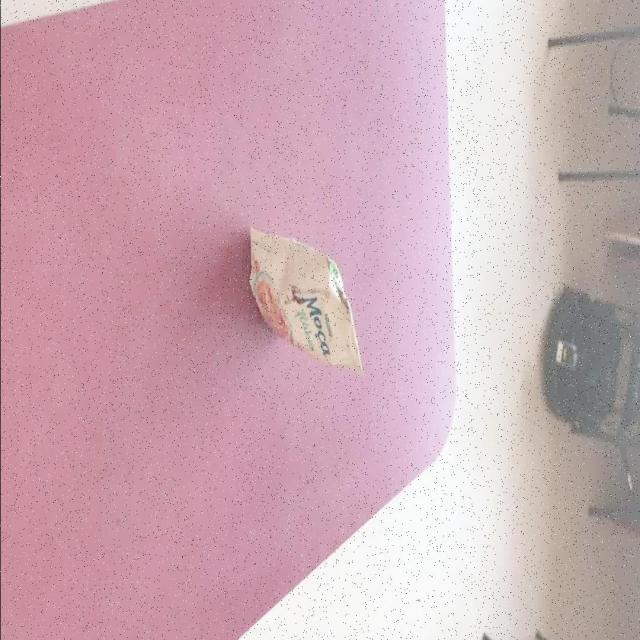CornFlakes: (248, 224, 365, 377)
